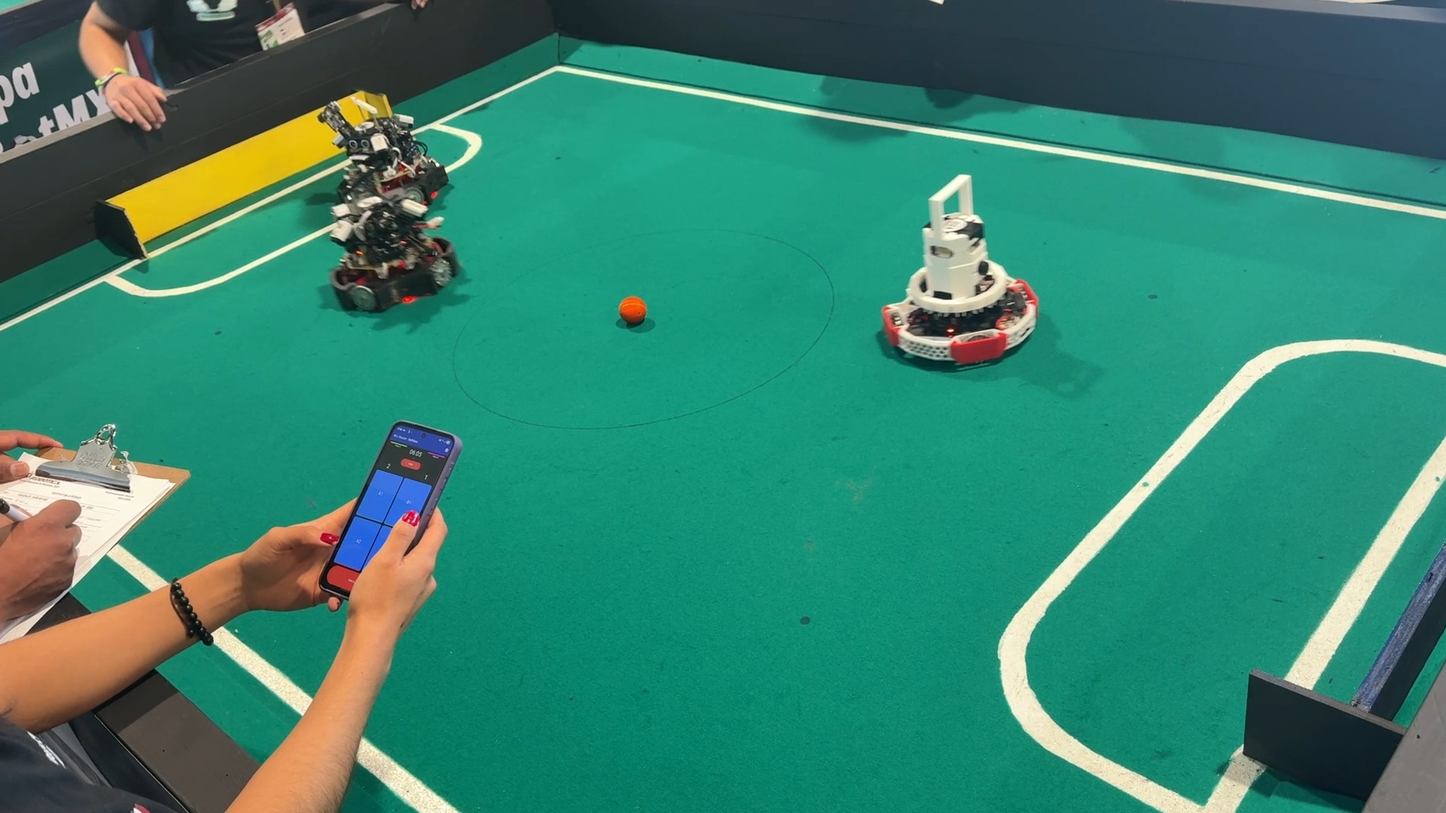Robot: (879, 160, 1046, 385), (313, 179, 472, 336), (308, 90, 468, 209)
pelota: (613, 294, 654, 336)
